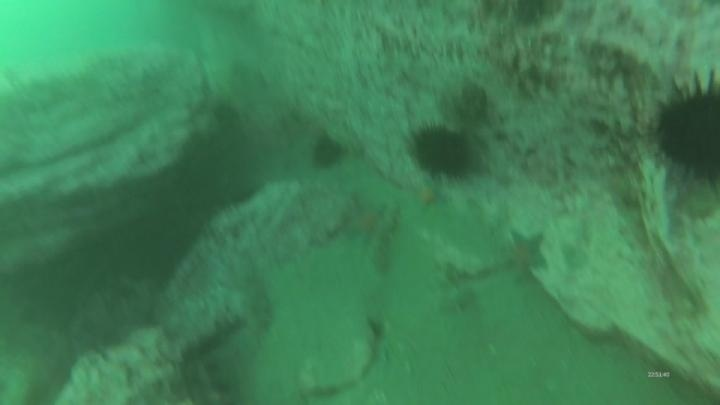echinus: (652, 75, 720, 187), (406, 120, 479, 183), (308, 133, 347, 172), (209, 100, 244, 134)
holothurian: (367, 201, 403, 278)
starfish: (500, 227, 550, 284), (341, 195, 390, 249), (407, 176, 450, 215)
